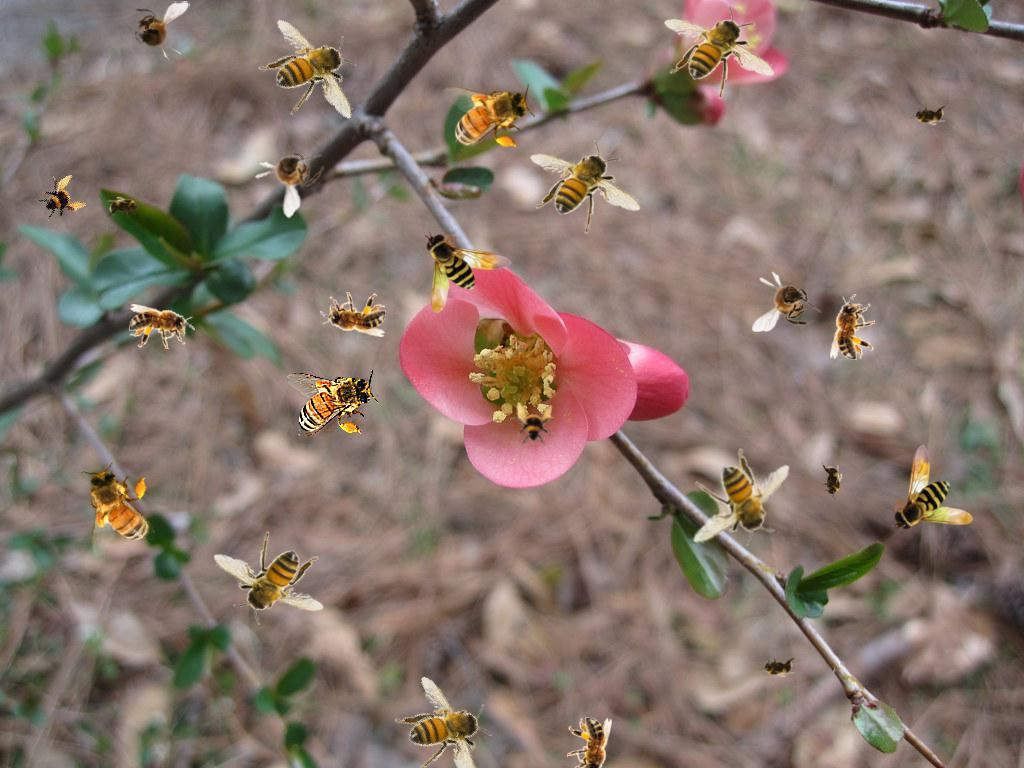Bee: (241, 5, 384, 141), (670, 431, 805, 573), (373, 663, 520, 768), (664, 5, 775, 99), (213, 531, 324, 625), (530, 140, 641, 234), (244, 126, 337, 220), (79, 458, 157, 559), (891, 444, 973, 532), (424, 231, 512, 313), (286, 369, 379, 437), (442, 83, 535, 151), (120, 1, 190, 62), (752, 271, 822, 332), (29, 167, 91, 229), (320, 292, 386, 337), (830, 294, 875, 360), (129, 304, 195, 349), (567, 717, 612, 768), (510, 402, 554, 446), (909, 104, 949, 126), (758, 656, 798, 678), (821, 461, 843, 501), (104, 196, 144, 218)
